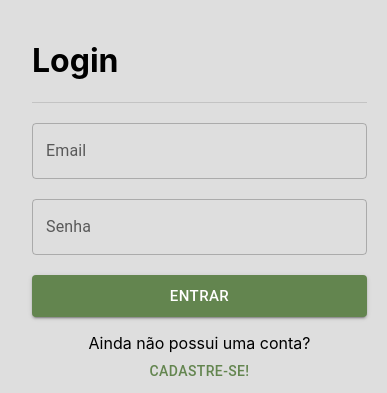
Test: Teste para a tela de login › Garantindo o usuario consegue fazer login
Expected: the heading "Login" is shown, [32,41,118,80]
Type "chiquim@email.com" into the element with test id "email" at coordinates (200, 151), box [32,123,367,179]
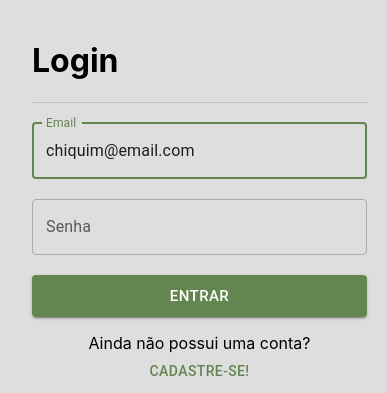
Type "12345678" into the element with test id "password" at coordinates (200, 227), box [32,199,367,255]
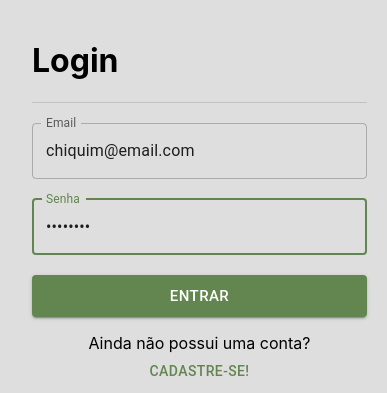
Click the button with test id "btn-enter" at coordinates (200, 296), box [32,275,367,317]
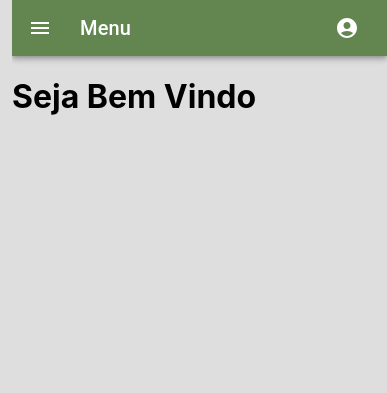
Expected: the heading "Seja Bem Vindo" is shown, [12,77,256,116]
